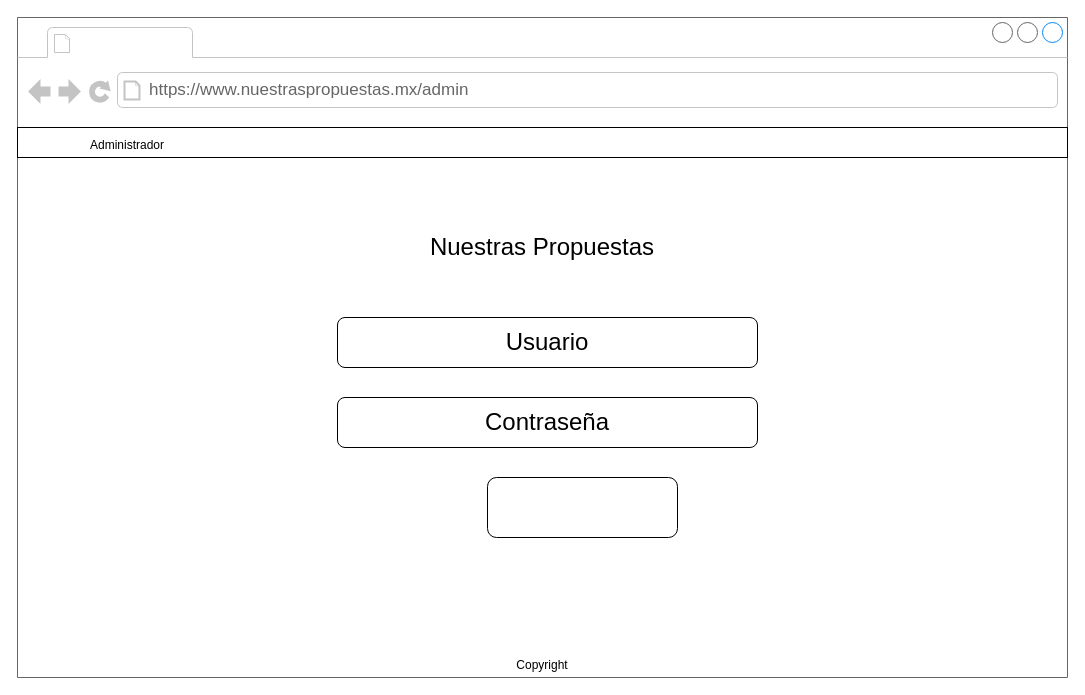
Image size: 1085x695. Some labels were removed from this diagram. Here are the shapes that lost their labels. From the top down, the centre of each, then its label:
At pixel 132 42: "Index".
At pixel 582 507: "Entrar".
